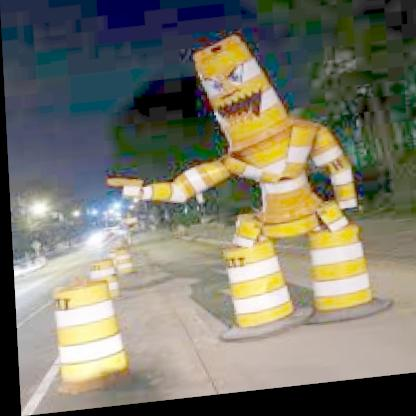obstacle: (36, 280, 131, 392), (210, 244, 301, 338), (297, 231, 374, 324)
